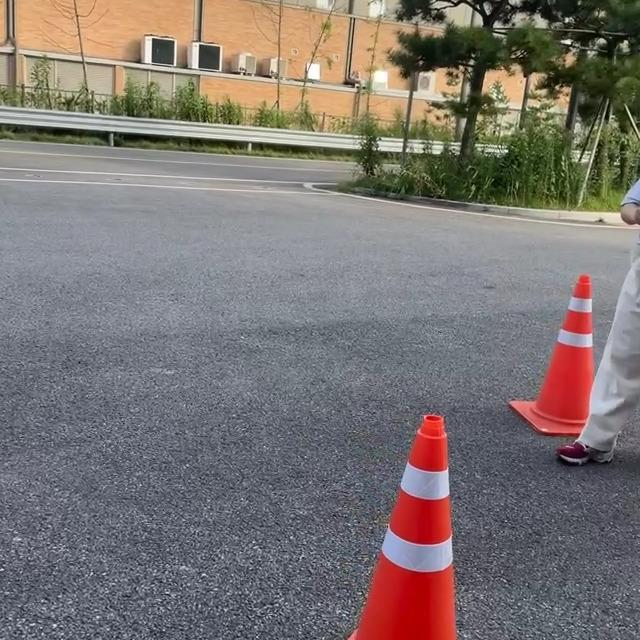fallen_object: (470, 236, 640, 466), (345, 377, 477, 606)
